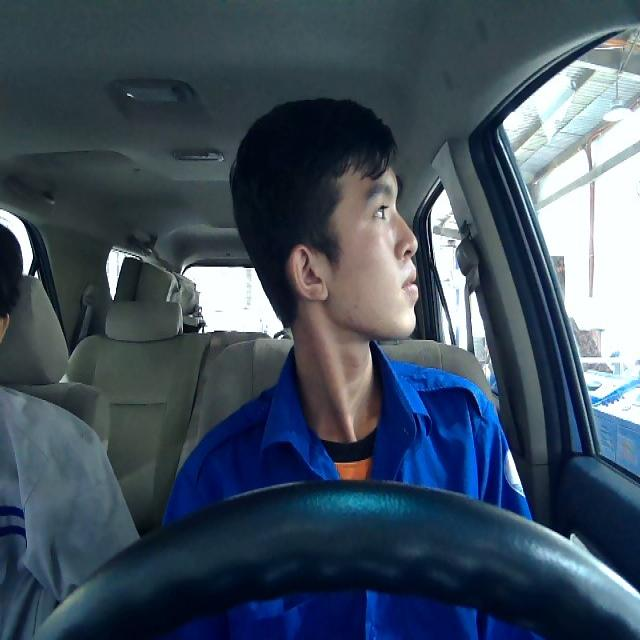seeing_right: (282, 146, 420, 342)
